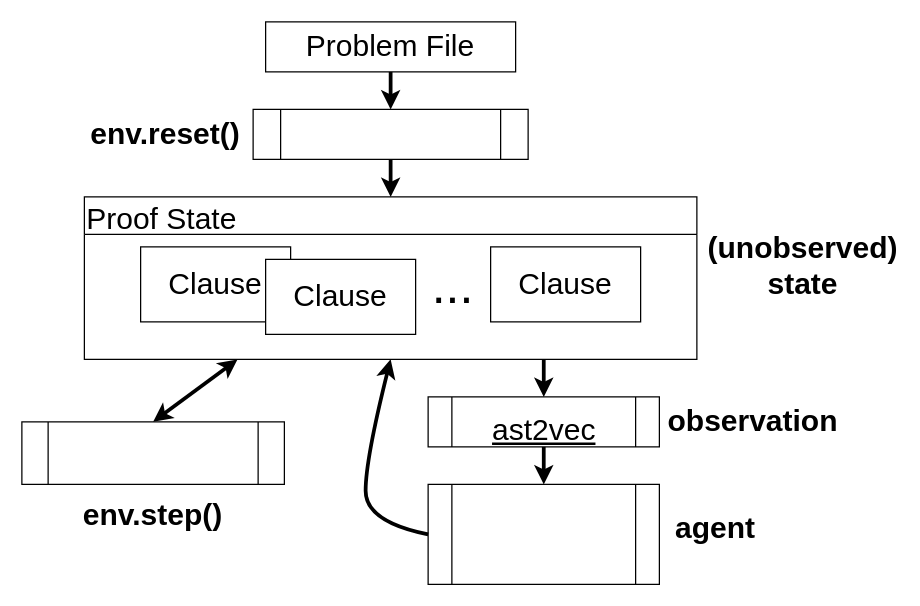
This 920x606 diagram has some shape labels left out. Each missing label, with the centre of its shape:
"DQN from Ray RLlib" belongs at point 543,533.
"gym-saturation" belongs at point 152,452.
"tptp-lark-parser" belongs at point 390,133.
